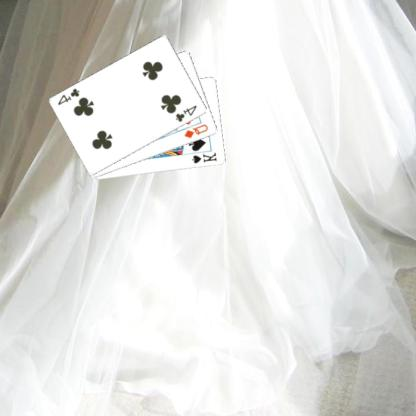4C: (175, 102, 200, 124), (57, 86, 83, 107)
KS: (191, 150, 220, 165)
QD: (184, 122, 212, 140)
